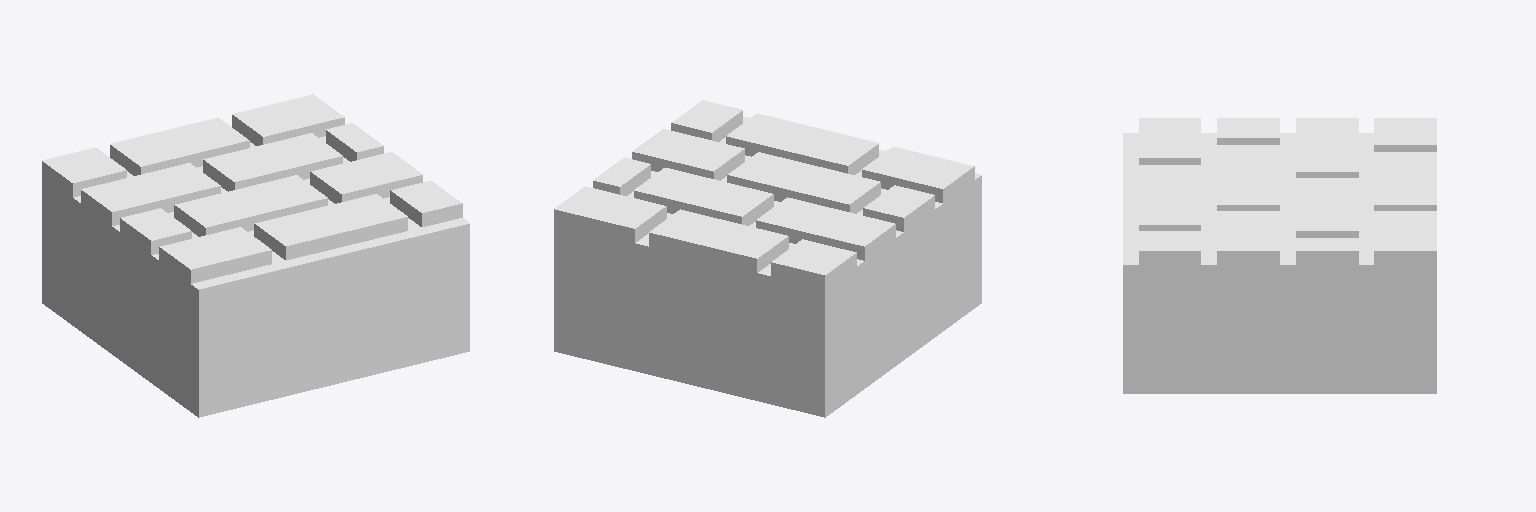
Rendered from rua1.obj.
3 views of the same model, side by side, from view 1: azimuth 30°, elevation 25°; view 2: azimuth 150°, elevation 25°; view 3: azimuth 270°, elevation 25° (orthographic).
Bounding box in the file's own units: 20 × 10 × 20.